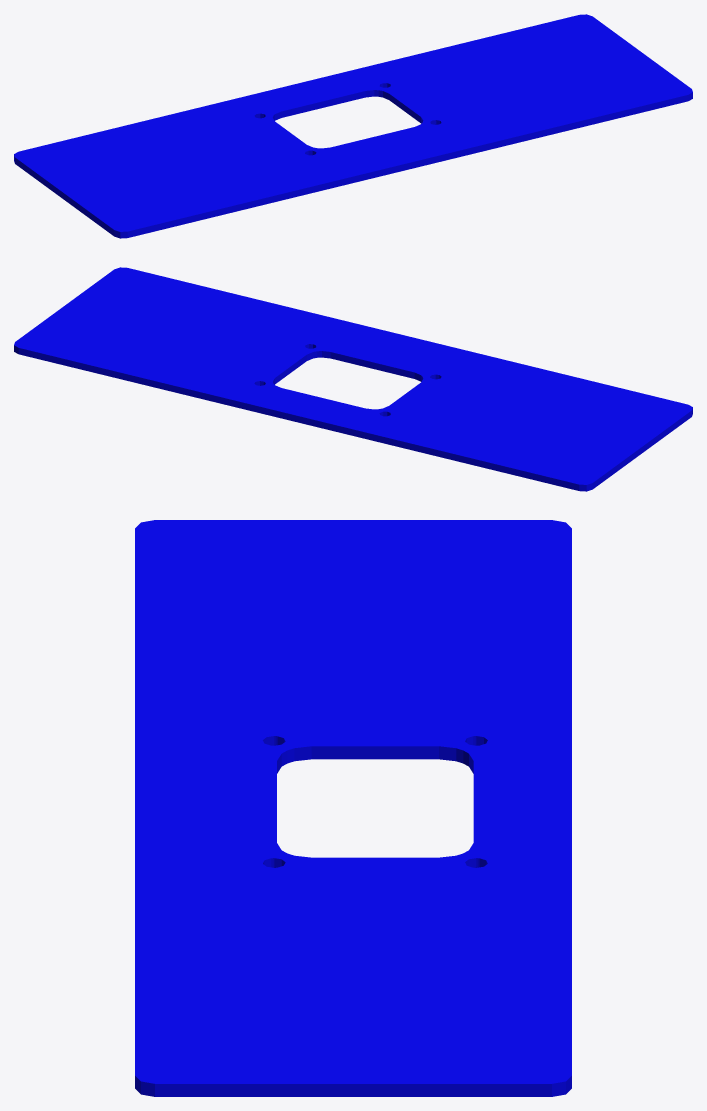
File: drawer_2_face.obj
The picture shows the model from 3 angles, top to bottom: view 1: azimuth 30°, elevation 25°; view 2: azimuth 150°, elevation 25°; view 3: azimuth 270°, elevation 25°; orthographic projection. The views are drawn at different scales.
Bounding box in the file's own units: 0.2932 × 0.00317 × 0.096.
